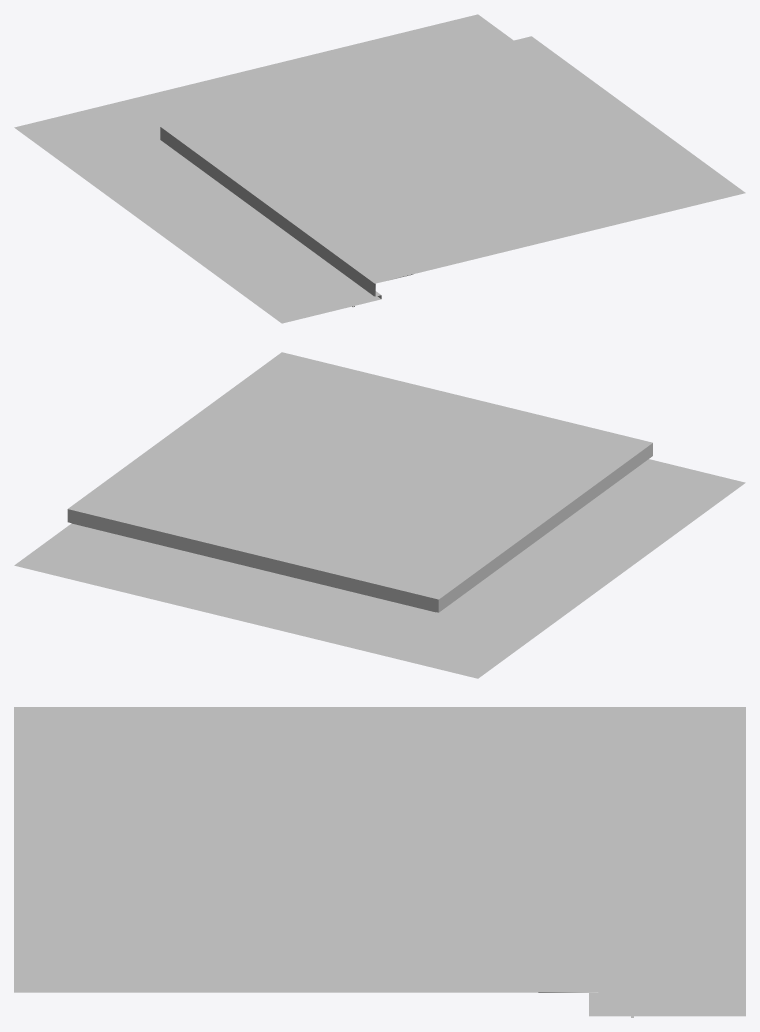
File: Ceiling03_9_700x700cm.FBX
3 renders of one model, top to bottom at view 1: azimuth 30°, elevation 25°; view 2: azimuth 150°, elevation 25°; view 3: azimuth 270°, elevation 25°, orthographic. The views are drawn at different scales.
Visible parts, largest first — view 1: Ceiling; view 2: Ceiling; view 3: Ceiling.
Boxes of the visible parts, left/top/right/bottom form: Ceiling: left=14, top=14, right=745, bottom=323; Ceiling: left=14, top=352, right=745, bottom=678; Ceiling: left=14, top=707, right=745, bottom=1016.
Size of the model in its own units: 700 by 26.5 by 700.
